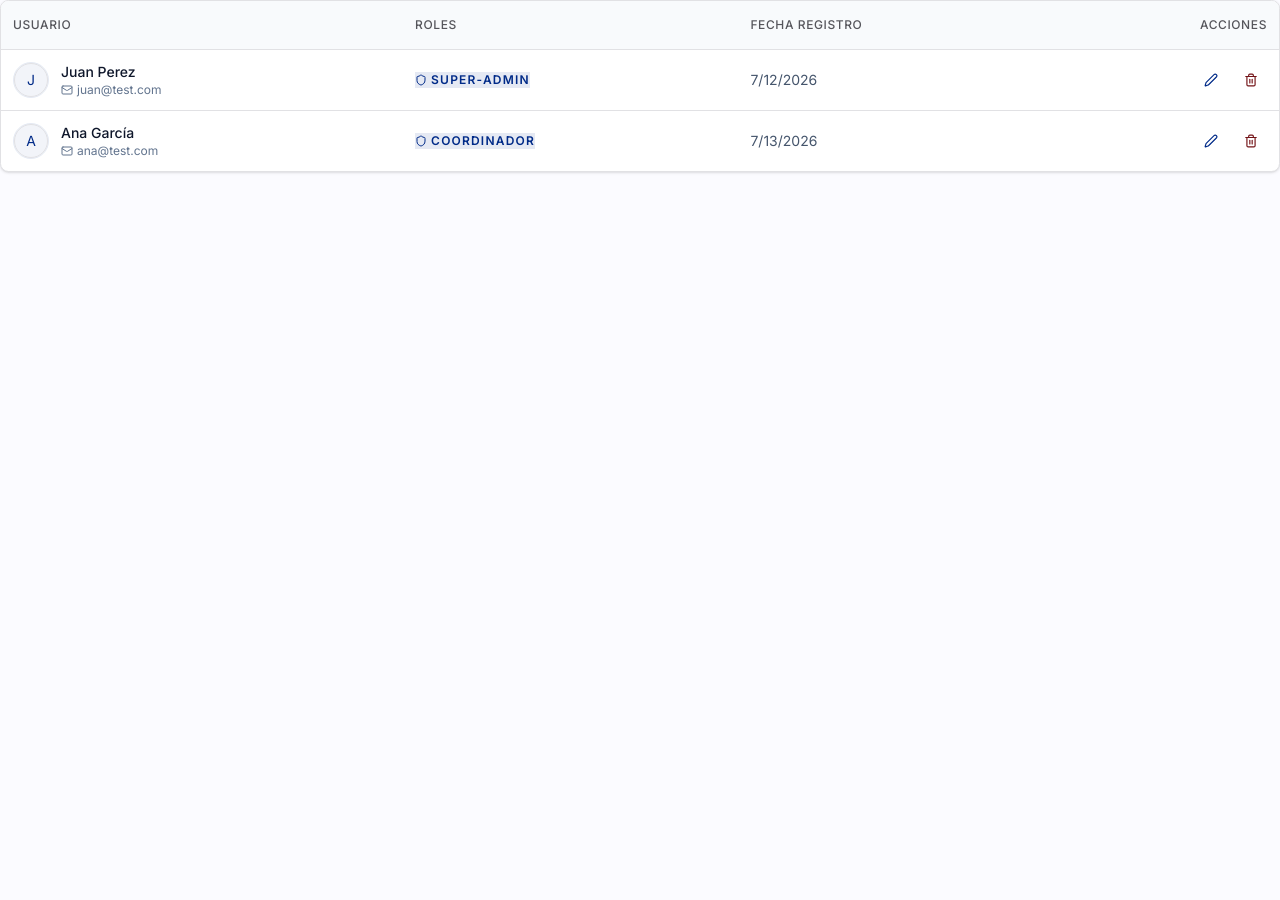
Test: UsersTable › abre el modal "Editar Usuario" al hacer click en editar
The width and height of the screenshot is (1280, 900).
Expected: the text "Juan Perez" is shown, [61,62,136,80]
Click the 1st button at (1211, 80), box [1195,64,1227,96]
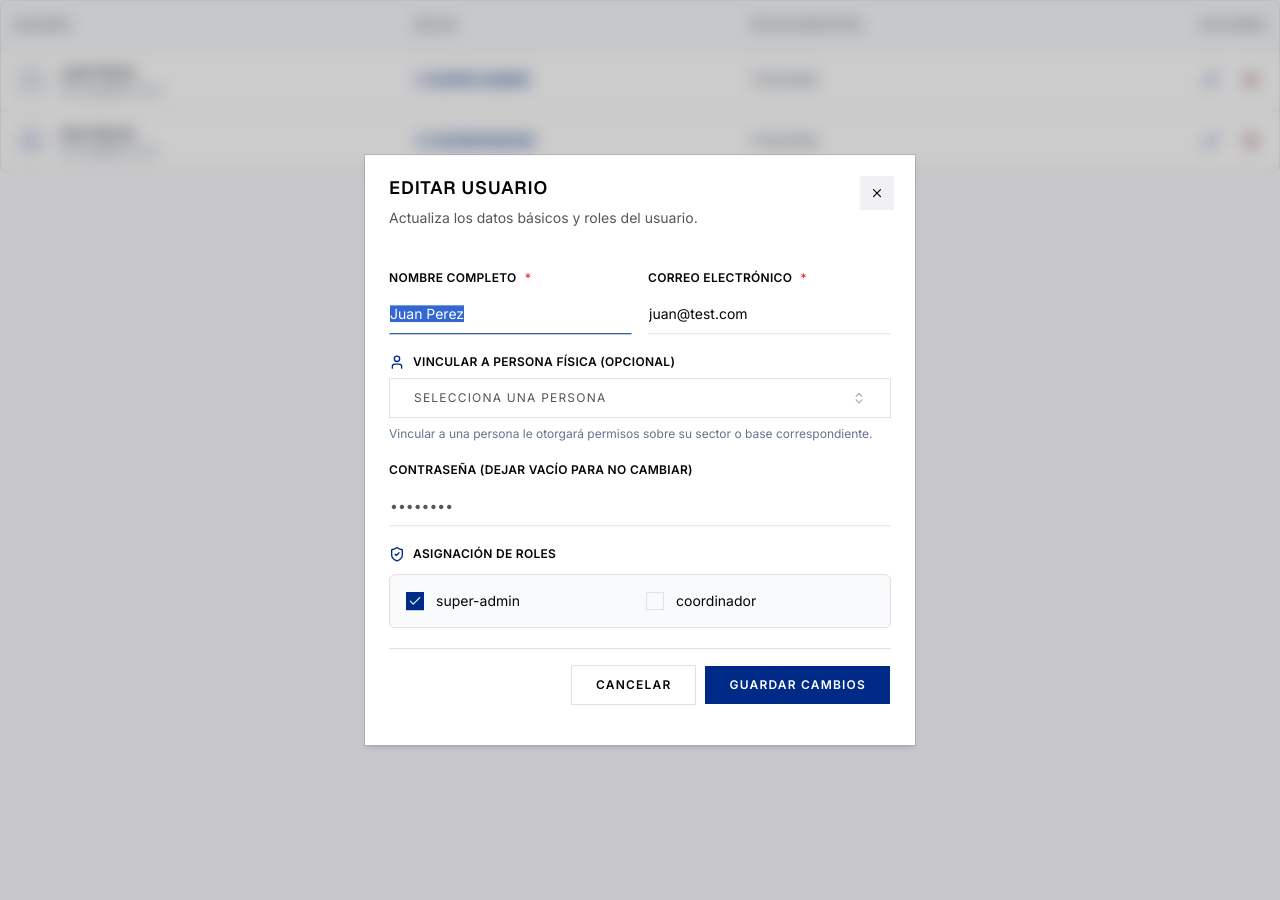
Now the heading "Editar Usuario" is shown, box [389,176,548,199]
